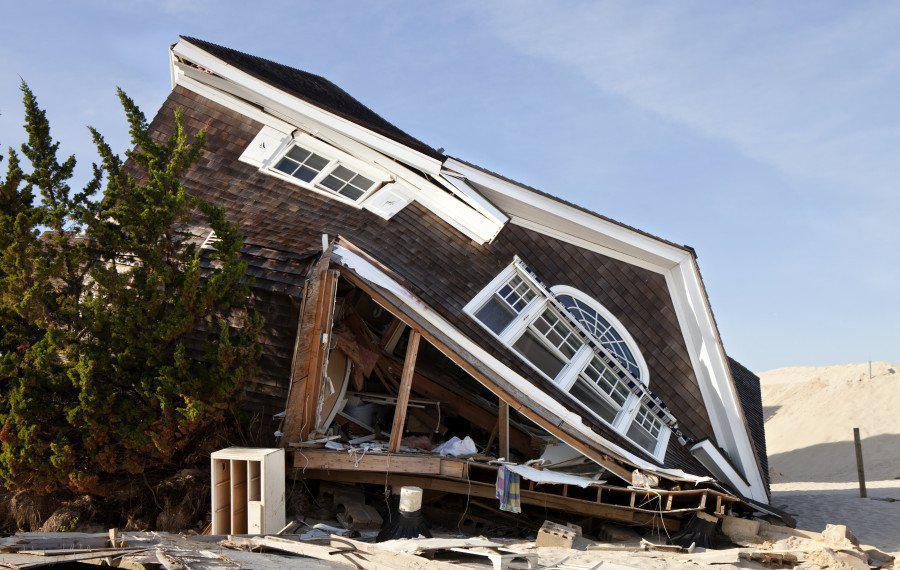destroyed: (77, 3, 806, 560)
